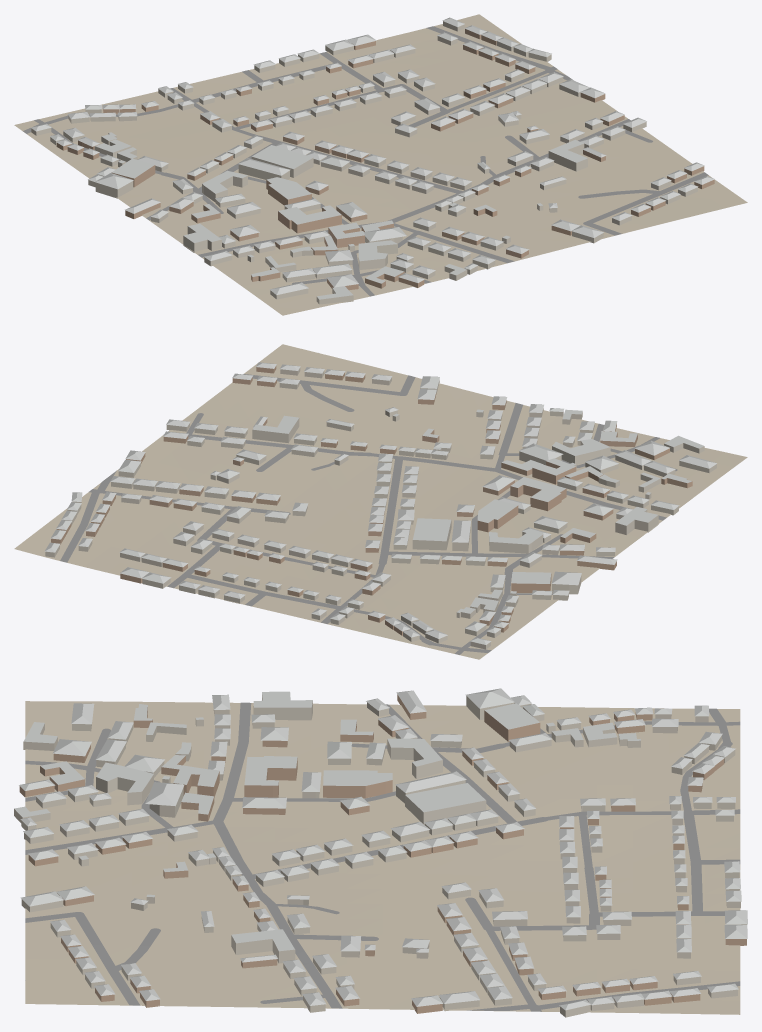
The model's file is bolak_0_3.glb.
3 renders of one model, top to bottom at view 1: azimuth 30°, elevation 25°; view 2: azimuth 150°, elevation 25°; view 3: azimuth 270°, elevation 25°, orthographic. The views are drawn at different scales.
Parts seen in each view (by area): view 1: Yer_Tuproq-col, Tom_Shifer, Devor_Suvoq-col, Devor_Gisht-col, Yol_Mahalla-col; view 2: Yer_Tuproq-col, Tom_Shifer, Devor_Suvoq-col, Yol_Mahalla-col, Devor_Gisht-col; view 3: Yer_Tuproq-col, Tom_Shifer, Devor_Suvoq-col, Yol_Mahalla-col, Devor_Gisht-col.
Boxes of the visible parts, bbox=[...] form: Yer_Tuproq-col: bbox=[14, 14, 747, 315]; Tom_Shifer: bbox=[31, 17, 714, 299]; Devor_Suvoq-col: bbox=[31, 21, 697, 304]; Devor_Gisht-col: bbox=[56, 29, 714, 290]; Yol_Mahalla-col: bbox=[23, 26, 711, 296]; Yer_Tuproq-col: bbox=[14, 344, 747, 659]; Tom_Shifer: bbox=[44, 362, 716, 644]; Devor_Suvoq-col: bbox=[45, 368, 716, 649]; Yol_Mahalla-col: bbox=[60, 374, 677, 654]; Devor_Gisht-col: bbox=[51, 366, 692, 635]; Yer_Tuproq-col: bbox=[25, 701, 740, 1014]; Tom_Shifer: bbox=[14, 688, 747, 1010]; Devor_Suvoq-col: bbox=[14, 695, 747, 1017]; Yol_Mahalla-col: bbox=[25, 702, 740, 1011]; Devor_Gisht-col: bbox=[19, 694, 746, 1013].
Size of what is drawn, in the model's own units: 417 by 16.43 by 411.
